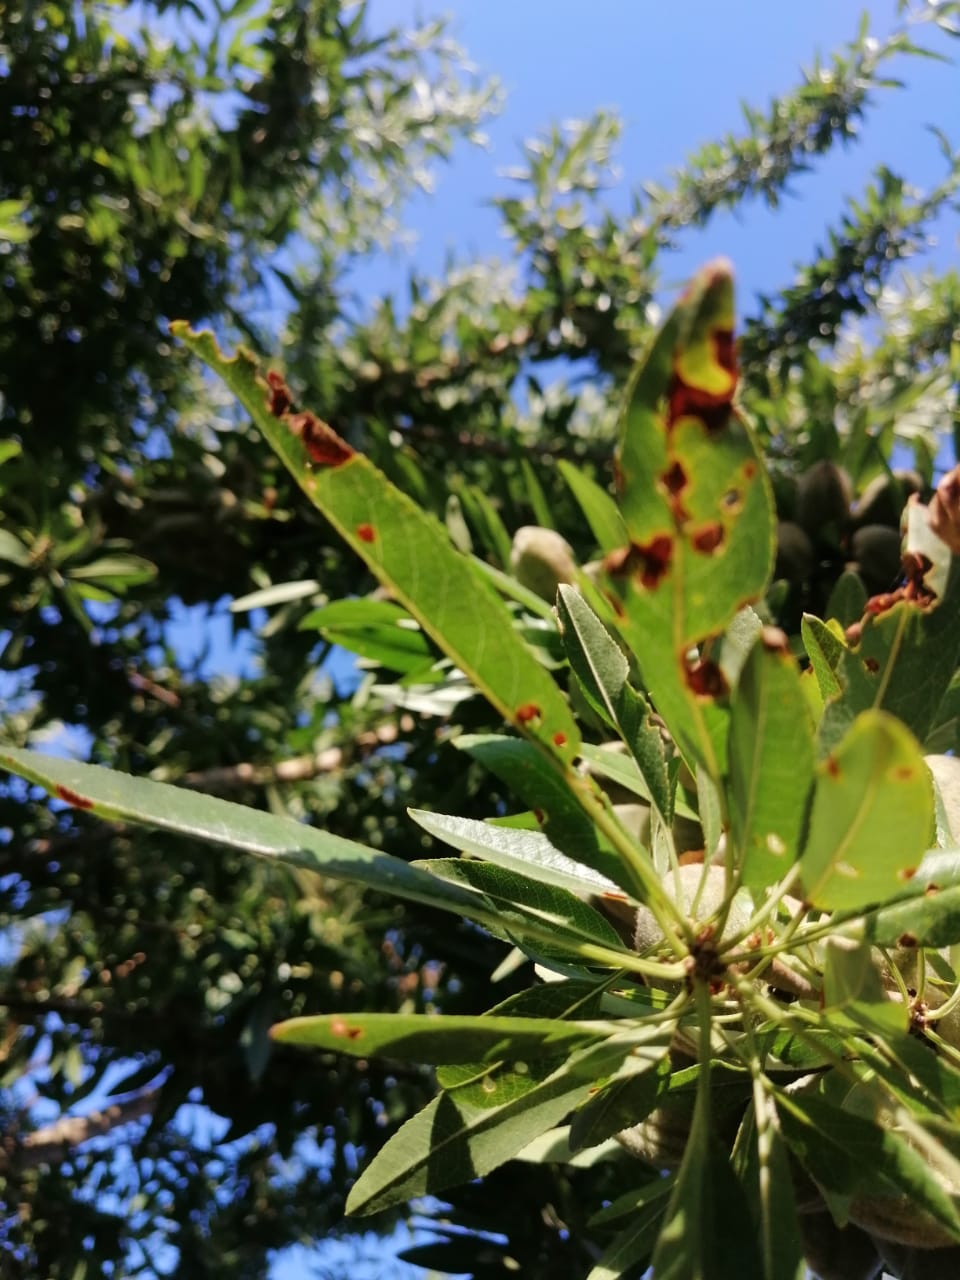polystigma: (1, 367, 226, 753), (828, 548, 953, 938), (611, 530, 751, 842), (715, 271, 860, 565), (390, 500, 518, 803), (563, 396, 651, 604)
